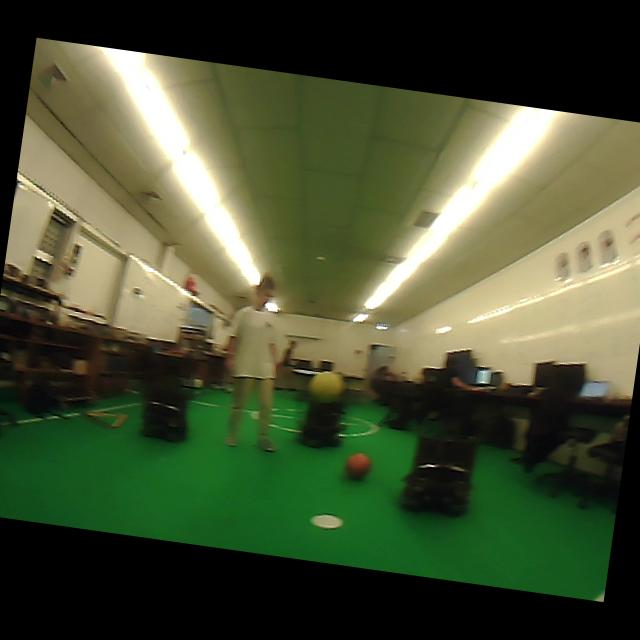ball: (309, 373, 344, 404), (346, 453, 372, 479)
robot: (401, 435, 477, 516), (140, 352, 188, 442), (299, 402, 341, 447)
